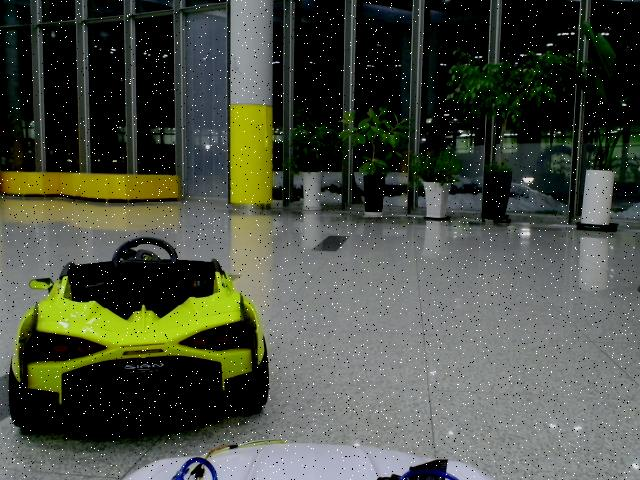car: (9, 237, 269, 432)
